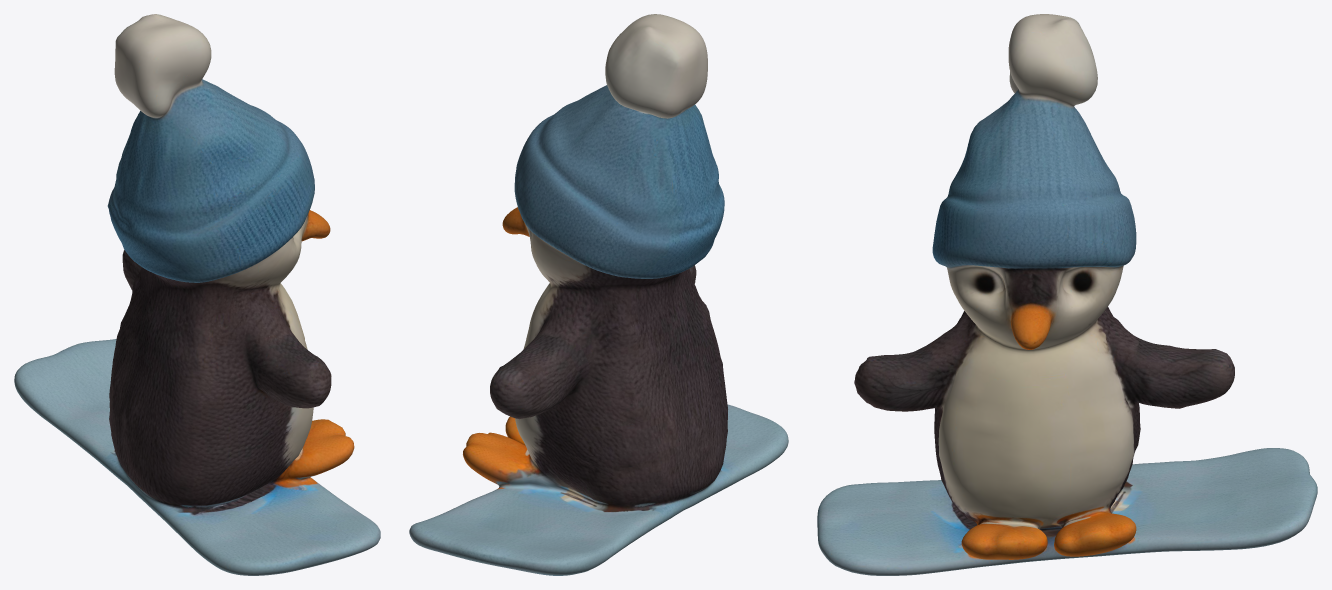
The picture shows the model from 3 angles, left to right: view 1: azimuth 30°, elevation 25°; view 2: azimuth 150°, elevation 25°; view 3: azimuth 270°, elevation 25°; orthographic projection. The views are drawn at different scales.
Parts seen in each view (by area): view 1: tripo_node_a607cb7a-961d-4b92-8f11-7ac8da499cb0; view 2: tripo_node_a607cb7a-961d-4b92-8f11-7ac8da499cb0; view 3: tripo_node_a607cb7a-961d-4b92-8f11-7ac8da499cb0.
Boxes of the visible parts, <box> form: tripo_node_a607cb7a-961d-4b92-8f11-7ac8da499cb0: <box>14,14,380,575</box>; tripo_node_a607cb7a-961d-4b92-8f11-7ac8da499cb0: <box>409,14,788,575</box>; tripo_node_a607cb7a-961d-4b92-8f11-7ac8da499cb0: <box>817,14,1317,575</box>.
Size of the model in its own units: 41.76 by 94.86 by 86.28.
Materials: 1 (1 with a texture image).
